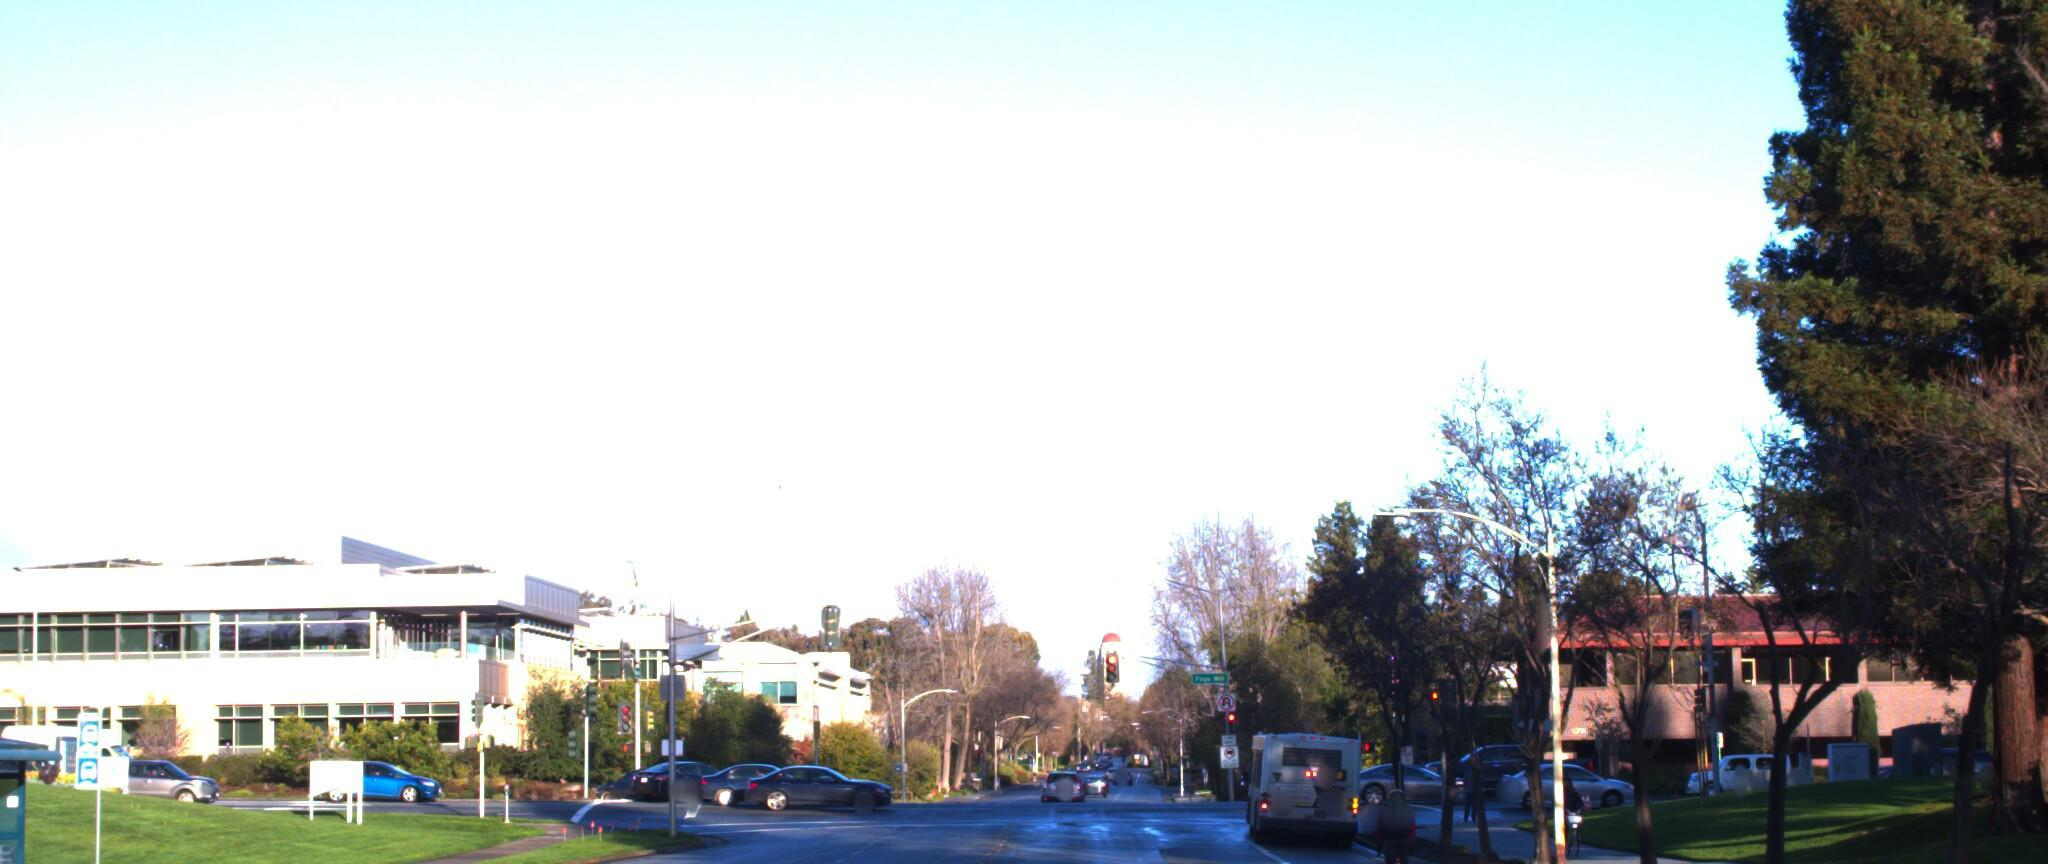bicycle: (1345, 765, 1415, 864)
bus: (1240, 706, 1357, 839)
